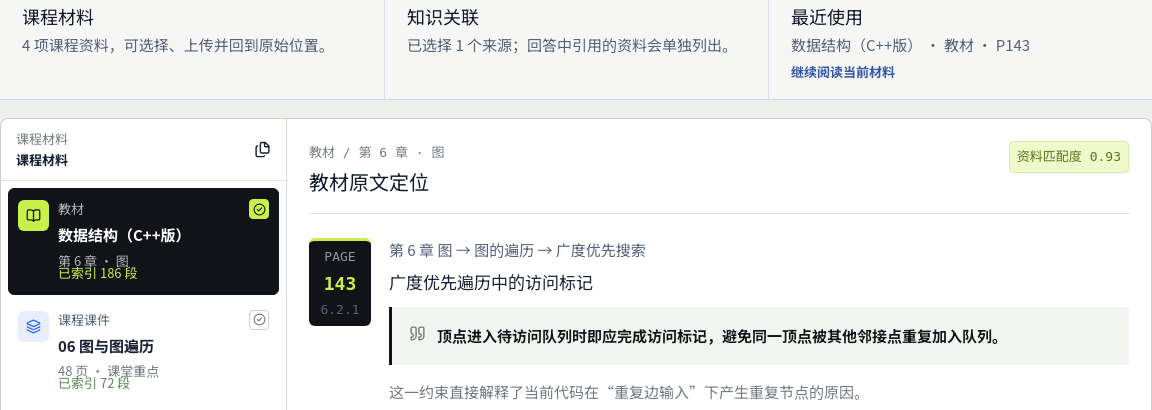
Test: MaterialsPage › combines selected sources into a quiz and a visual mind map
The width and height of the screenshot is (1152, 410).
What coordinates should you click on to do the following:
click the checkbox named "纳入生成：06 图与图遍历"
I would click on:
 (259, 320)
Its box is [248, 309, 270, 331].
(page scrolled)
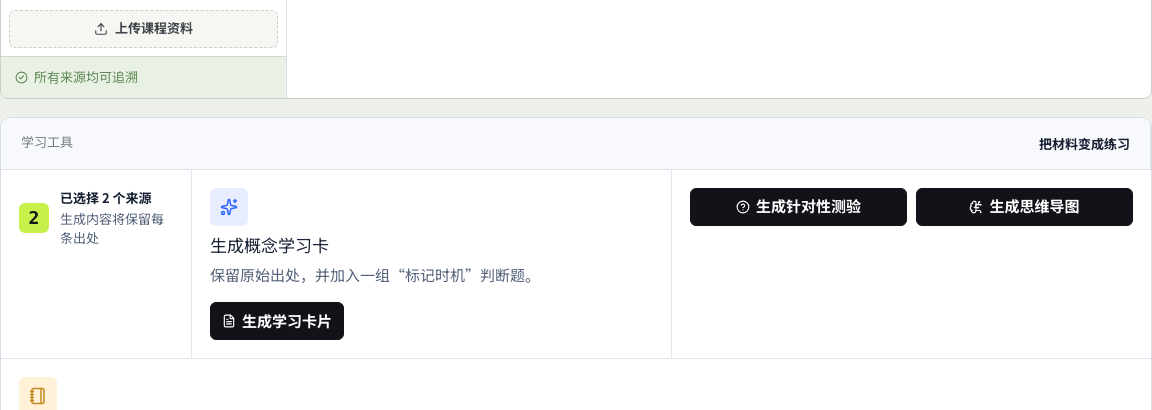
Check: the text "已选择 2 个来源" is shown, box [60, 188, 152, 207]
What coordinates should you click on to do the following:
click the button "生成思维导图"
I would click on:
 (1024, 207)
Its box is [916, 188, 1133, 226].
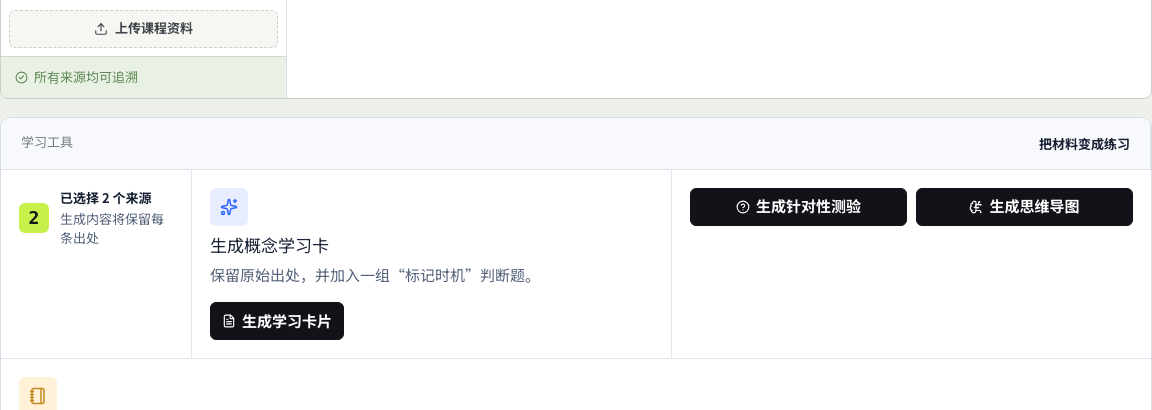
What coordinates should you click on to do the following:
click the button "生成针对性测验"
I would click on:
 (798, 207)
Its box is [690, 188, 907, 226].
(page scrolled)
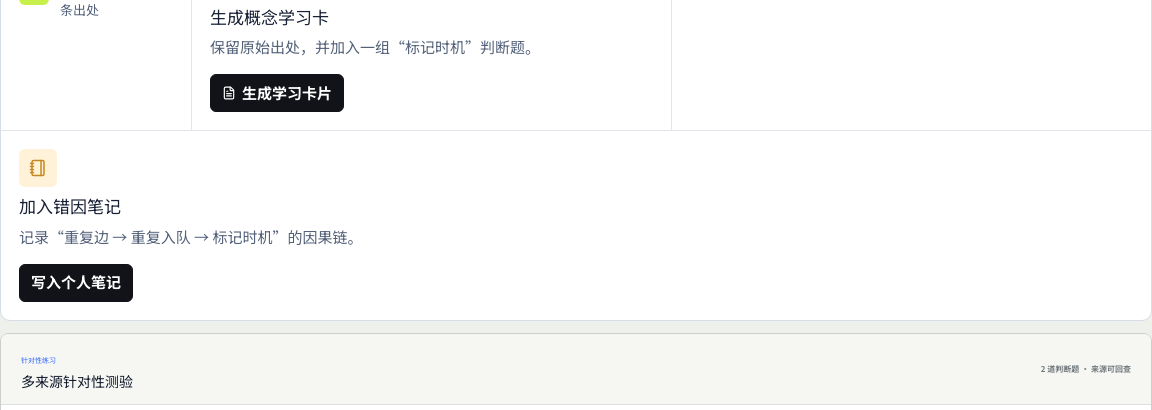
Check: the heading "多来源针对性测验" is shown, box [21, 372, 133, 391]
Check: the text "2 道判断题 · 来源可回查" is shown, box [1041, 363, 1131, 375]
